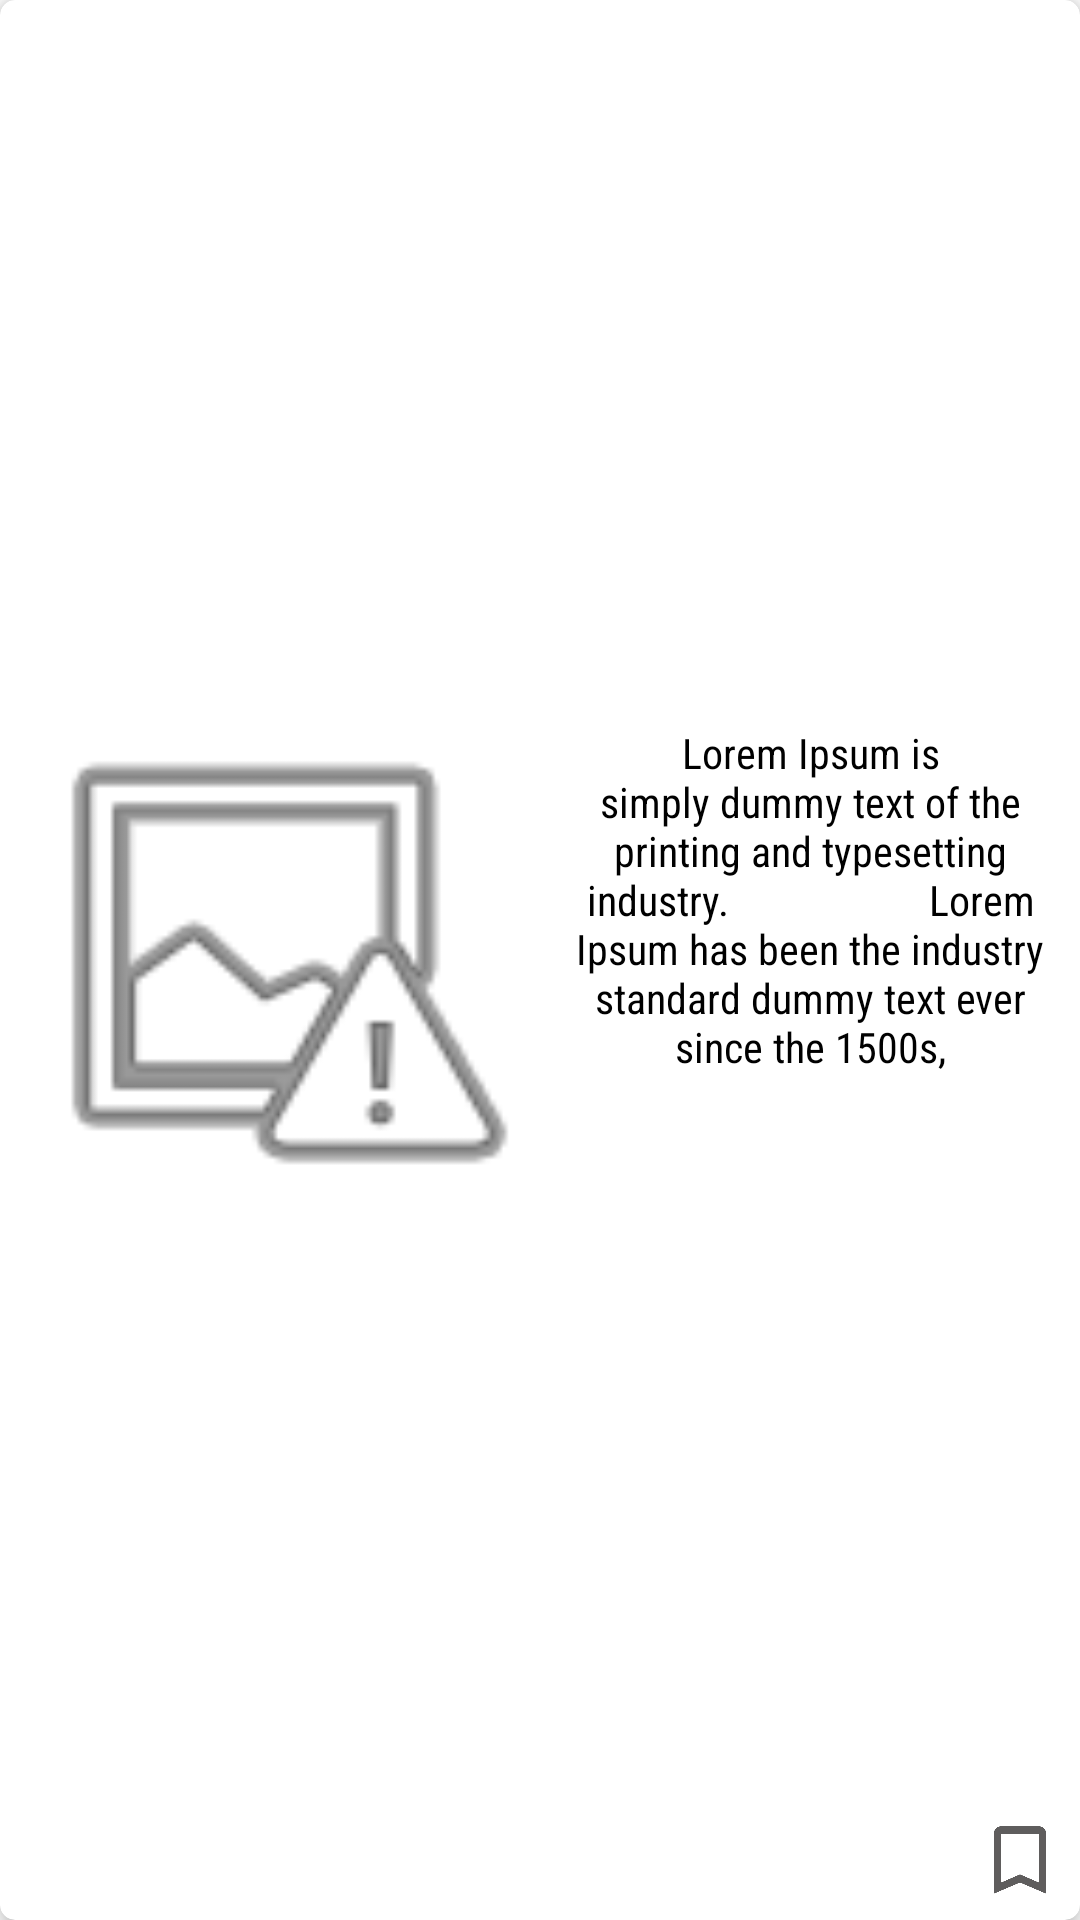

Icon bounding boxes for this 1080×1920 phone screenshot, format (x1, y1, x2, y2):
turned in not: (994, 1826, 1046, 1894)
